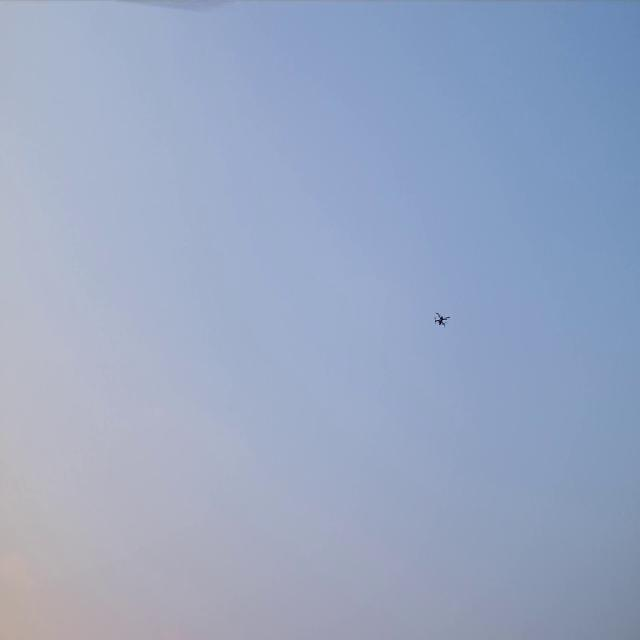UAV: (435, 313, 448, 325)
